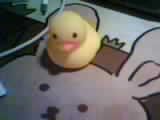duck: (42, 4, 97, 64)
